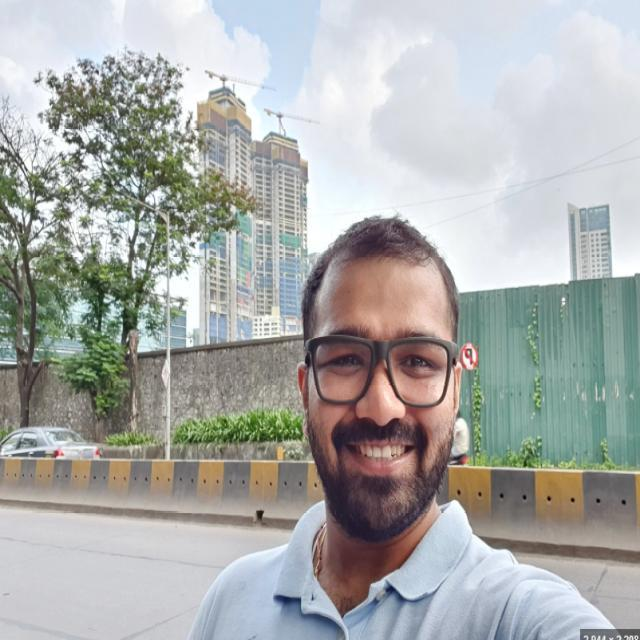face_no_mask: (296, 267, 466, 527)
